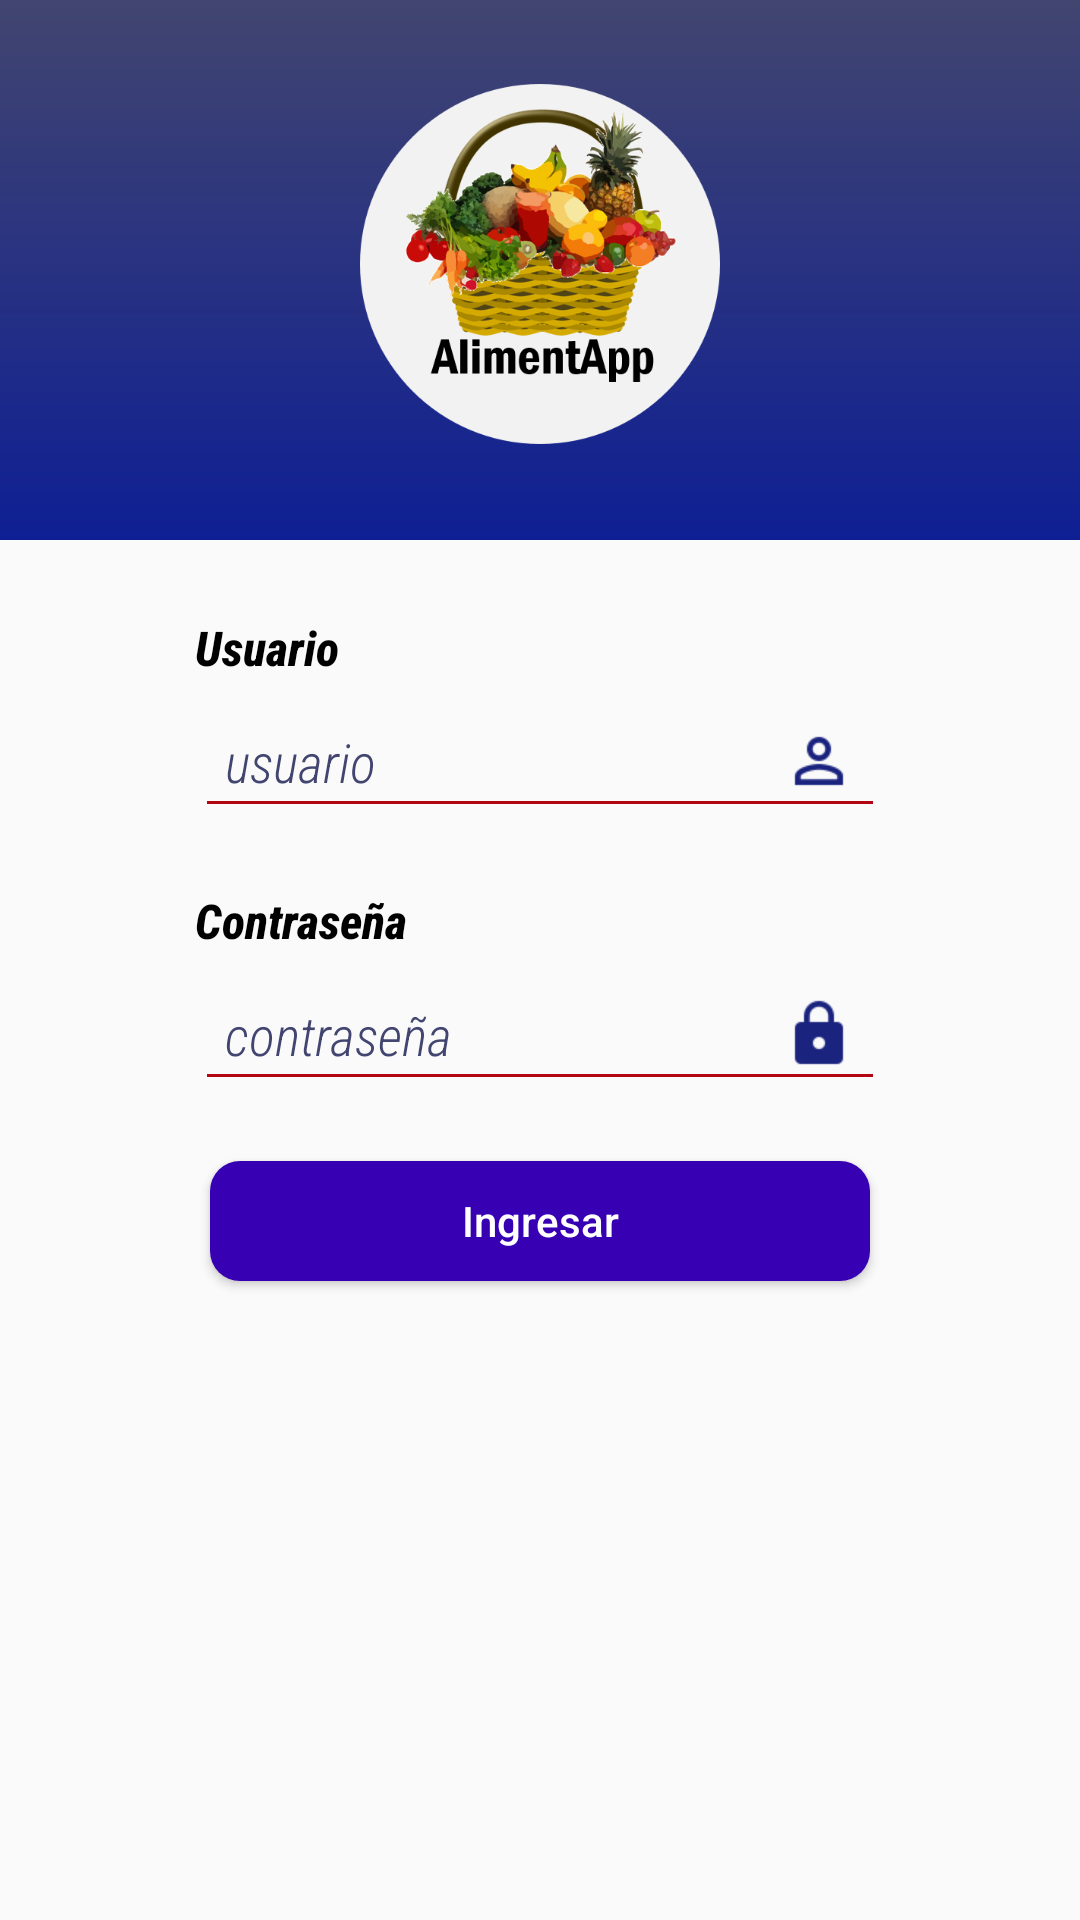

Icon click points for this 1080w x 1920h phone screenshot, format (x,y):
iconologin: (540,264)
